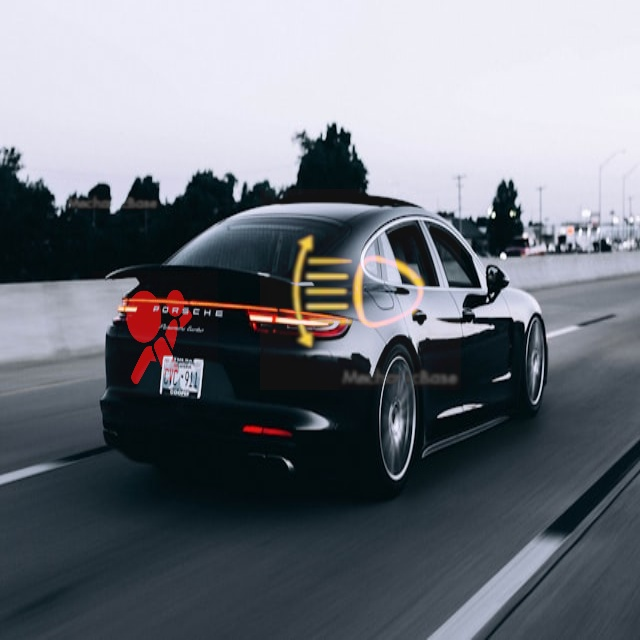symbol: (260, 189, 461, 390), (6, 59, 163, 216), (92, 271, 218, 397)
